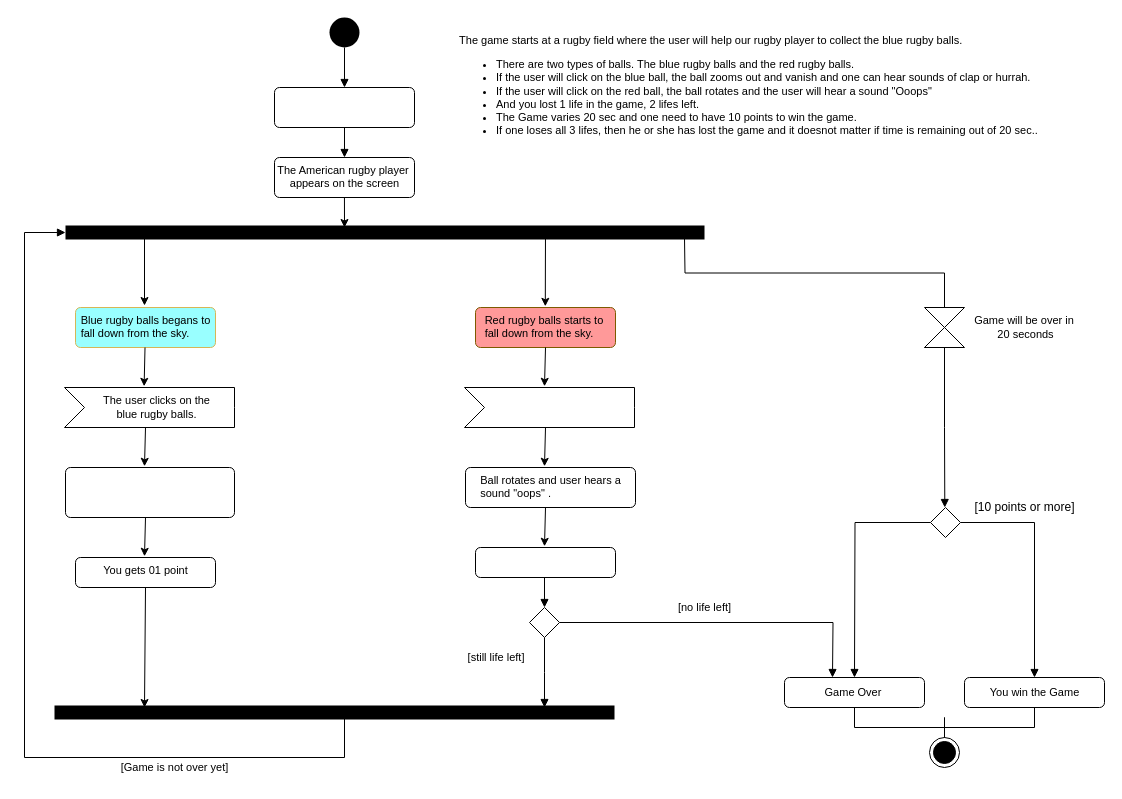
This 1122x799 diagram has some shape labels left out. Each missing label, with the box of its shape:
Bagroundmusic starts: (274, 86, 414, 128)
The blue ball zooms out and vanish and one can hear a sound "yay or hurrah".: (64, 466, 234, 518)
The user clicks on the red ball.: (464, 386, 634, 428)
You lost 1 life: (474, 546, 616, 578)
